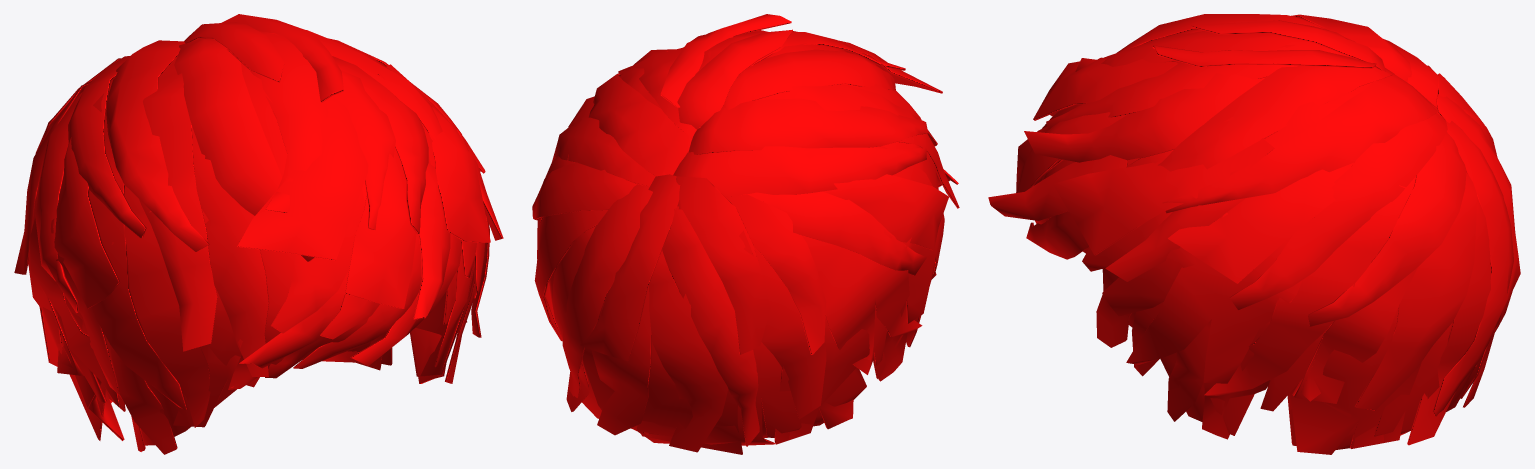
Rendered from culturalibre_hair_06_M.glb.
3 renders of one model, left to right at view 1: azimuth 30°, elevation 25°; view 2: azimuth 150°, elevation 25°; view 3: azimuth 270°, elevation 25°, orthographic. The views are drawn at different scales.
Size of the model in its own units: 0.2265 by 0.2099 by 0.2711.
Materials: 1 (1 with a texture image).
